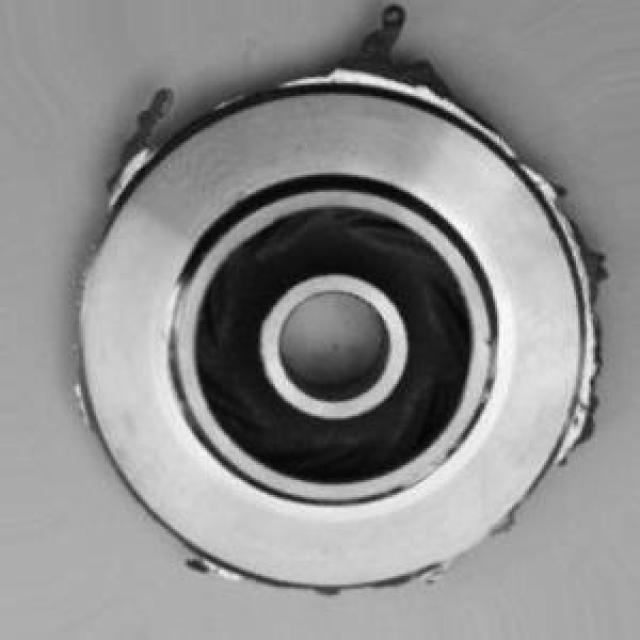Defect: (343, 0, 431, 107), (122, 91, 162, 181)
